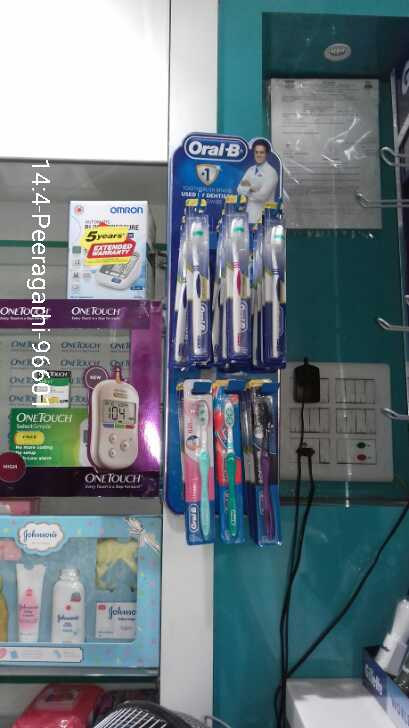oralb: (182, 217, 211, 357), (223, 217, 250, 356), (258, 391, 282, 546), (190, 404, 214, 543), (268, 222, 289, 363), (218, 400, 237, 545)
